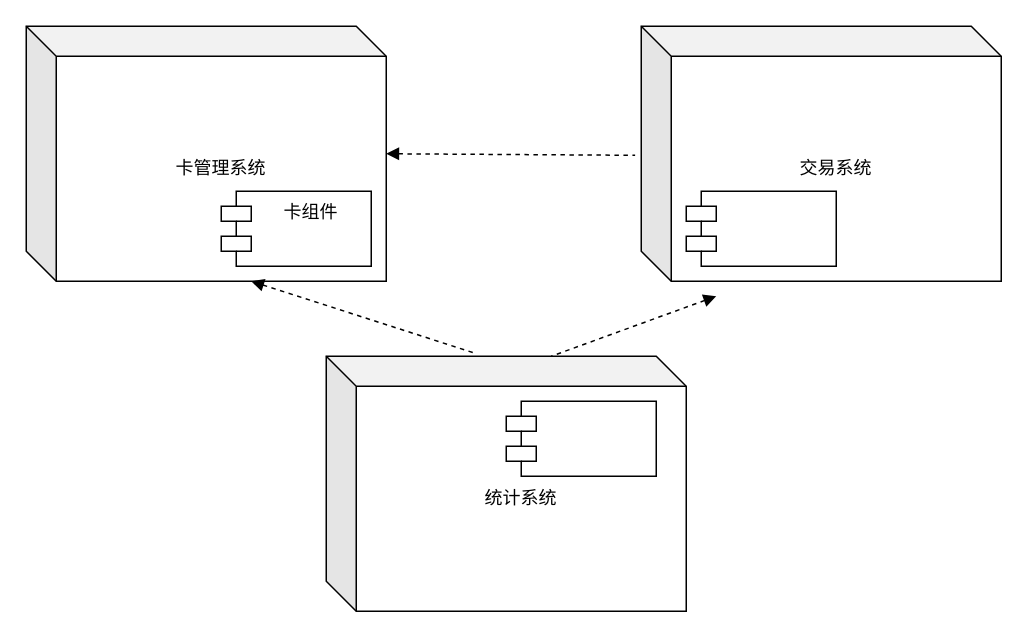
Image size: 1028x638. Some labels were removed from this diagram. The shapes that lost their labels are listed below. From the top down, each one's centre as x and y in pixels, then its label:
At point 760,228: "交易组件".
At point 580,438: "统计组件".
